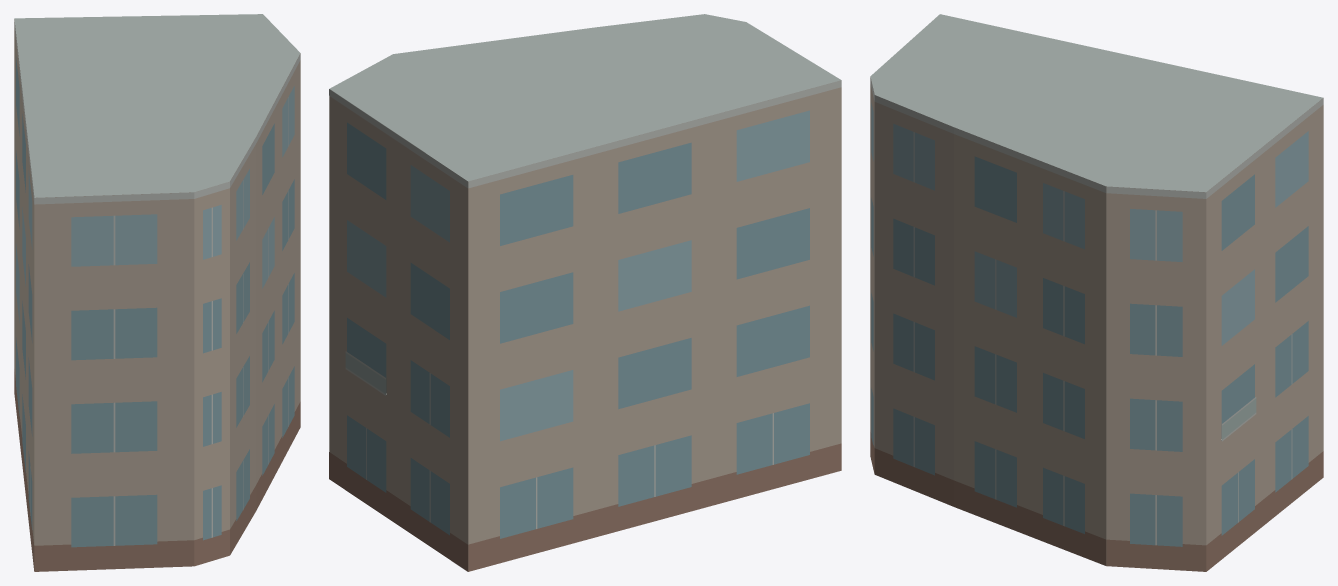
File: survey-upis-32805069.glb
The picture shows the model from 3 angles, left to right: view 1: azimuth 30°, elevation 25°; view 2: azimuth 150°, elevation 25°; view 3: azimuth 270°, elevation 25°; orthographic projection. The views are drawn at different scales.
Visible parts, largest first — view 1: survey-upis-32805069.tmp; view 2: survey-upis-32805069.tmp; view 3: survey-upis-32805069.tmp.
Boxes of the visible parts, box(x1,y1,x2,y2) form: survey-upis-32805069.tmp: box(14, 14, 300, 571); survey-upis-32805069.tmp: box(329, 14, 841, 571); survey-upis-32805069.tmp: box(870, 14, 1323, 571).
Size of the model in its own units: 13.74 by 13.64 by 14.77.
